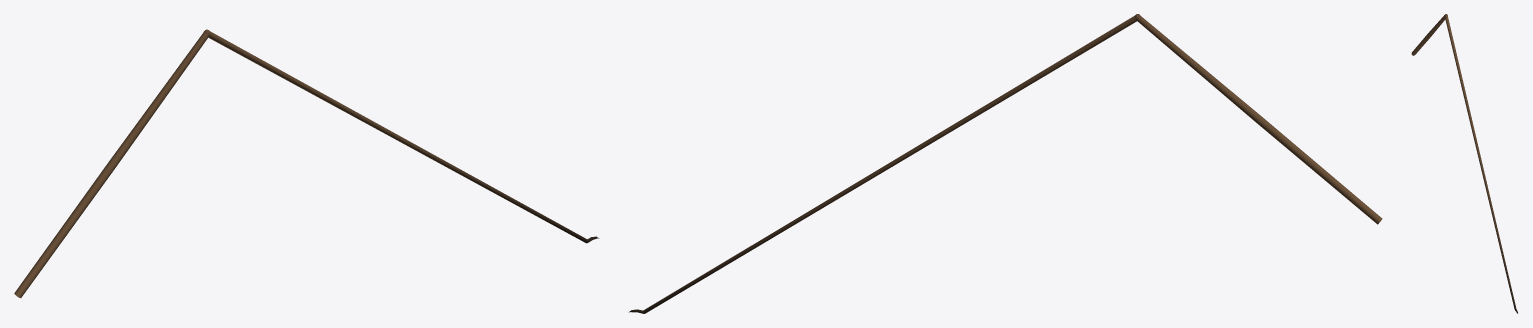
The model's file is Zatoumushi_Leg2.fbx.
3 views of the same model, side by side, from view 1: azimuth 30°, elevation 25°; view 2: azimuth 150°, elevation 25°; view 3: azimuth 270°, elevation 25° (orthographic). The views are drawn at different scales.
Visible parts, largest first — view 1: Zatoumushi_Leg2; view 2: Zatoumushi_Leg2; view 3: Zatoumushi_Leg2.
Boxes of the visible parts, left/top/right/bottom form: Zatoumushi_Leg2: left=14, top=29, right=599, bottom=297; Zatoumushi_Leg2: left=629, top=14, right=1382, bottom=313; Zatoumushi_Leg2: left=1411, top=14, right=1517, bottom=313.
Size of the model in its own units: 2.46 by 1.28 by 0.663.
